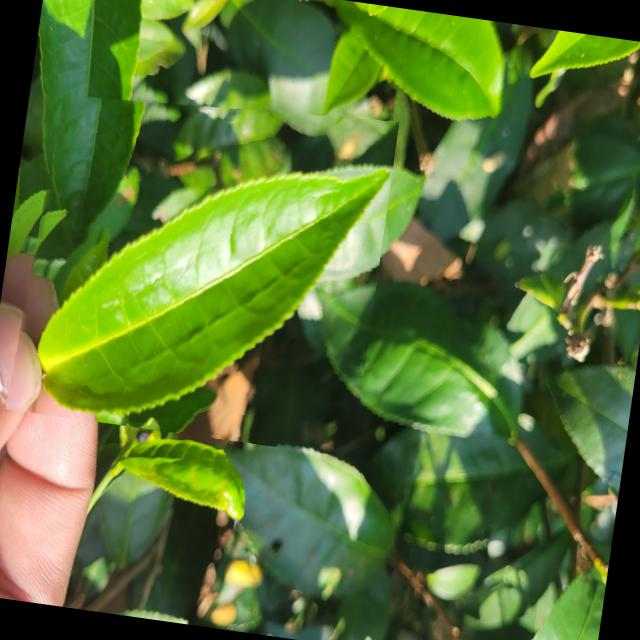Catagory A(1-2 days): (4, 72, 398, 458)
